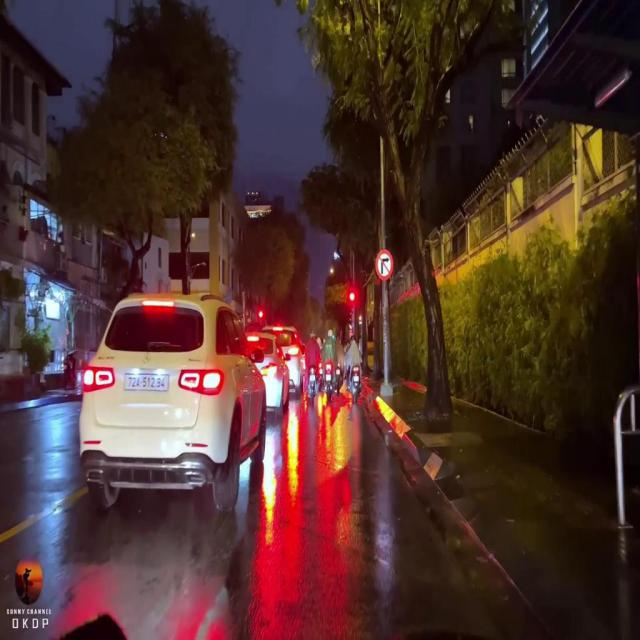cam_re_trai: (376, 249, 394, 281)
